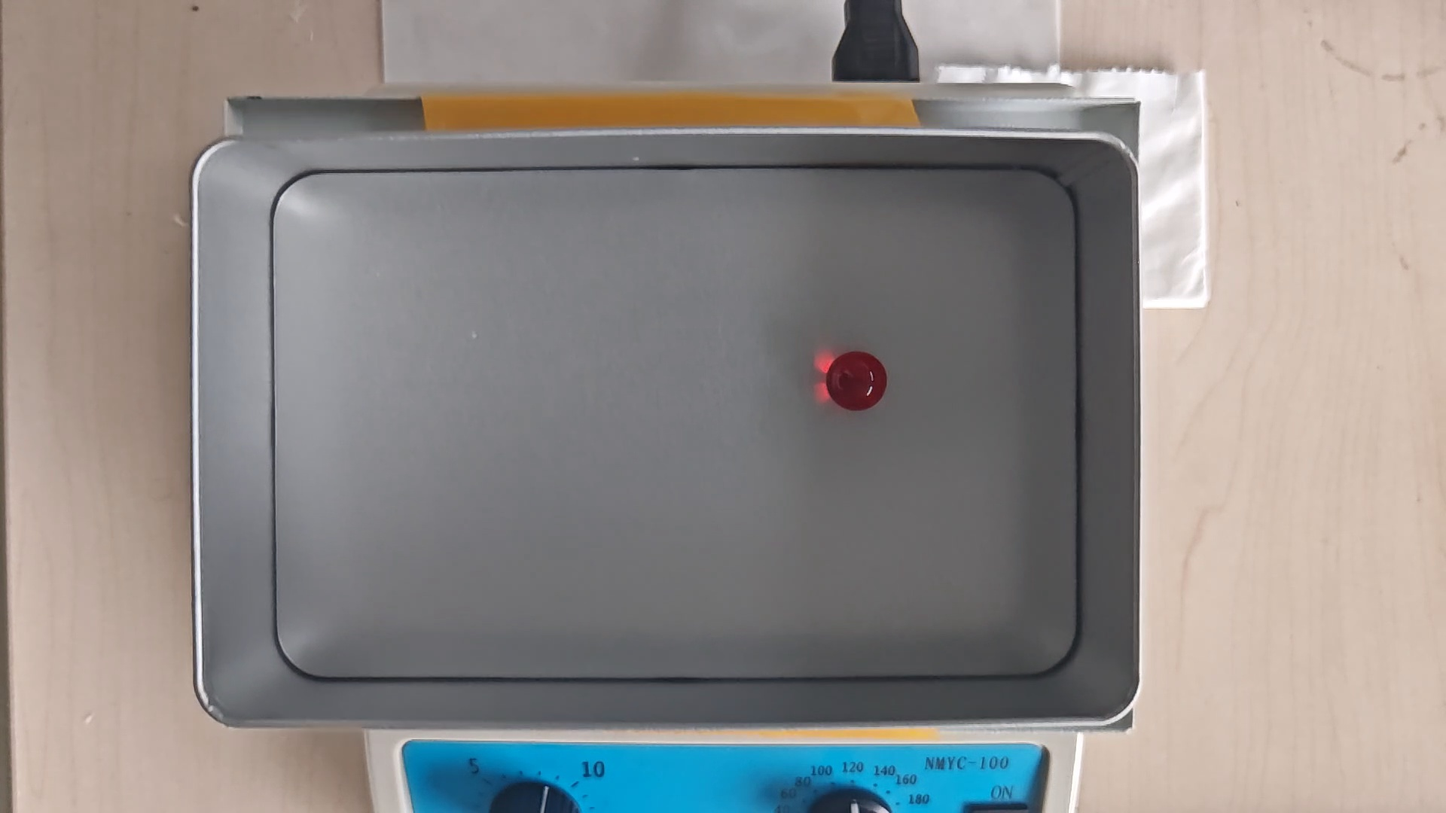ball: (829, 351, 884, 413)
container: (271, 170, 1080, 680)
